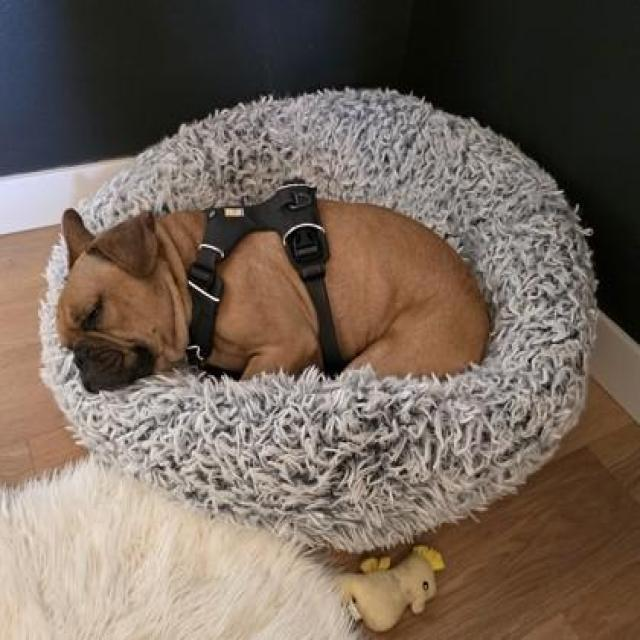french_bulldog_dog: (39, 196, 189, 421)
